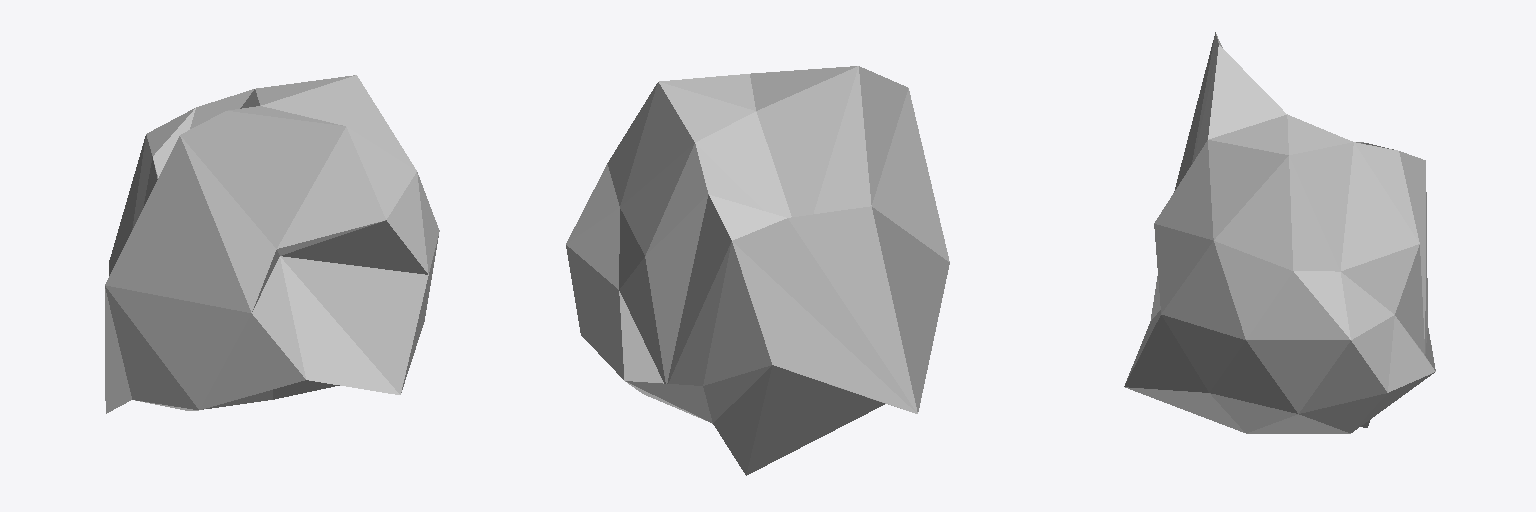
Rendered from rock-7.obj.
The picture shows the model from 3 angles: view 1: azimuth 30°, elevation 25°; view 2: azimuth 150°, elevation 25°; view 3: azimuth 270°, elevation 25°; orthographic projection.
Parts seen in each view (by area): view 1: Icosphere.007; view 2: Icosphere.007; view 3: Icosphere.007.
Boxes of the visible parts, x1,y1,x2,y2 form: Icosphere.007: [105, 75, 439, 413]; Icosphere.007: [566, 66, 949, 475]; Icosphere.007: [1124, 32, 1435, 433].
Size of the model in its own units: 0.6145 by 0.6425 by 0.4982.